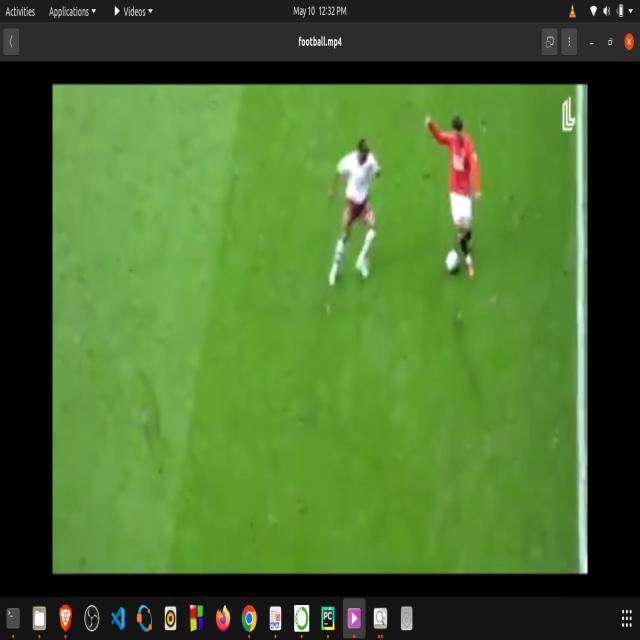Ball: (441, 244, 465, 283)
football-players: (421, 104, 492, 300), (325, 117, 386, 299)
